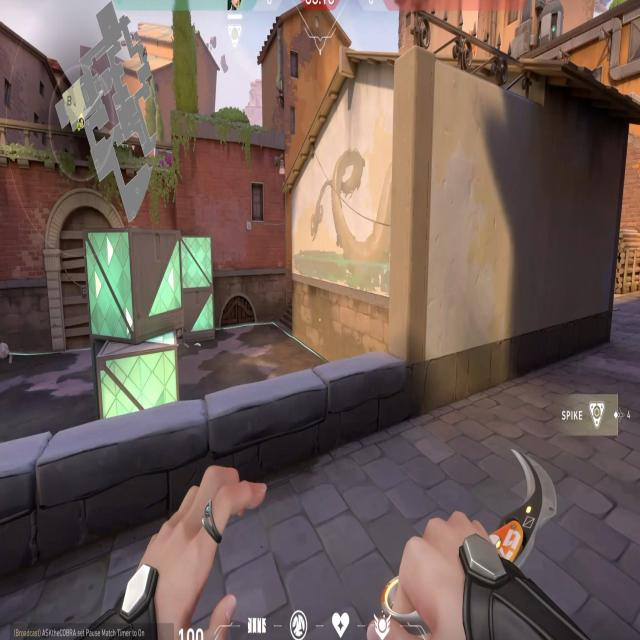B_Site_Box: (74, 216, 190, 420)
